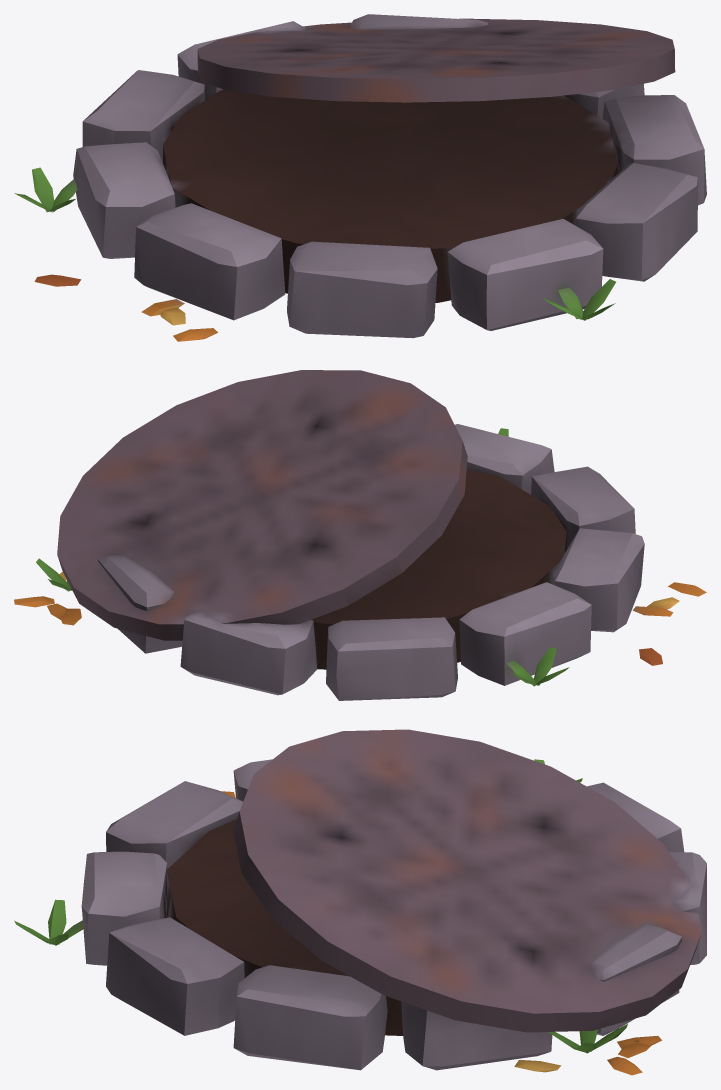
The model's file is Den_Manhole.fbx.
3 views of the same model, one above another, from view 1: azimuth 30°, elevation 25°; view 2: azimuth 150°, elevation 25°; view 3: azimuth 270°, elevation 25° (orthographic). The views are drawn at different scales.
Visible parts, largest first — view 1: Den_Manhole; view 2: Den_Manhole; view 3: Den_Manhole.
Part boxes in pixels (<box>): Den_Manhole: <box>14,14,706,341</box>; Den_Manhole: <box>14,370,706,700</box>; Den_Manhole: <box>14,729,706,1075</box>.
Bounding box in the file's own units: 1.25 × 0.3366 × 1.18.
Materials: 1 (1 with a texture image).
